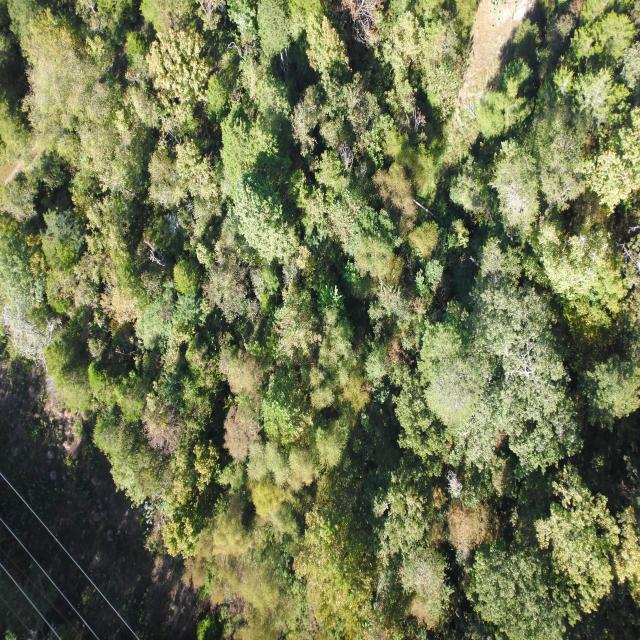Area of Interest: (6, 0, 629, 636)
